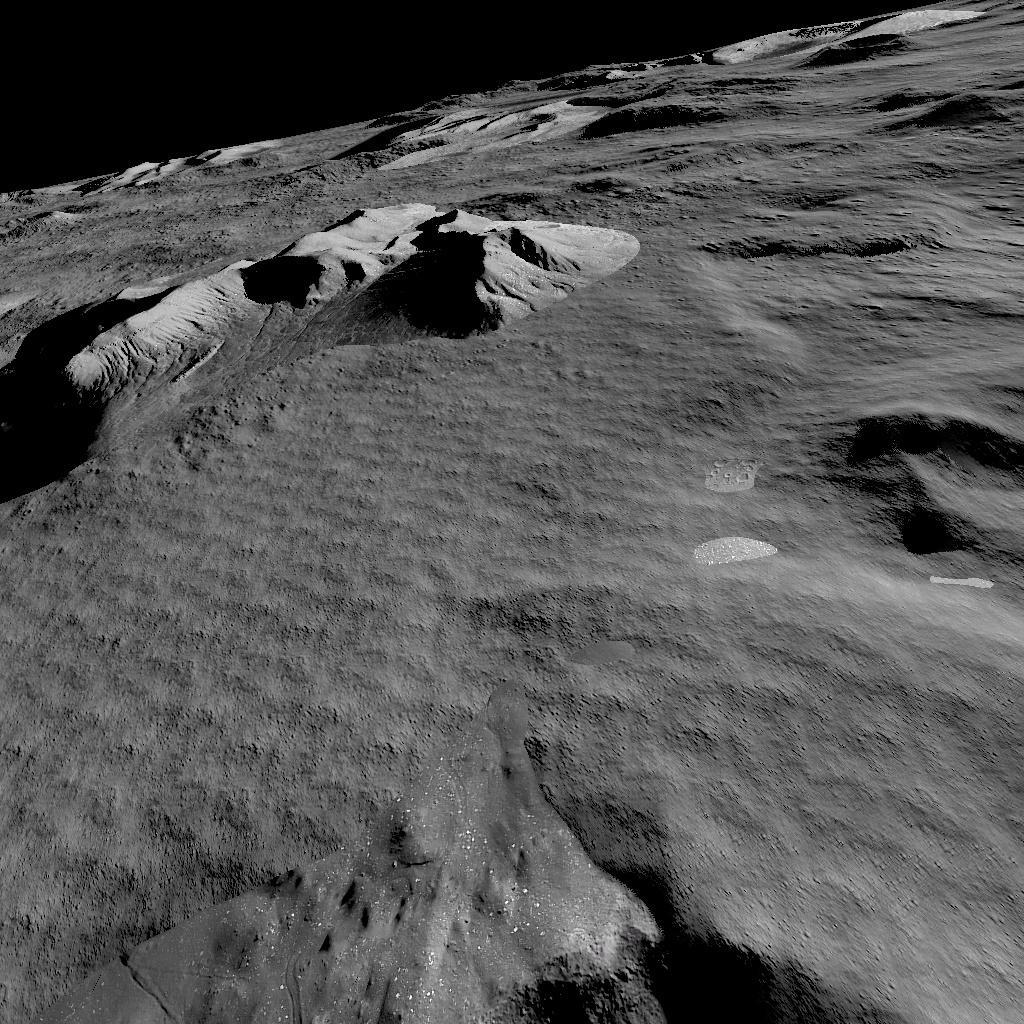Boulders: (11, 204, 646, 460), (336, 0, 1024, 173), (72, 130, 288, 196)
Crater: (0, 750, 1024, 1024), (803, 412, 1024, 597), (688, 215, 920, 272)
Plan surface: (0, 492, 763, 725)
